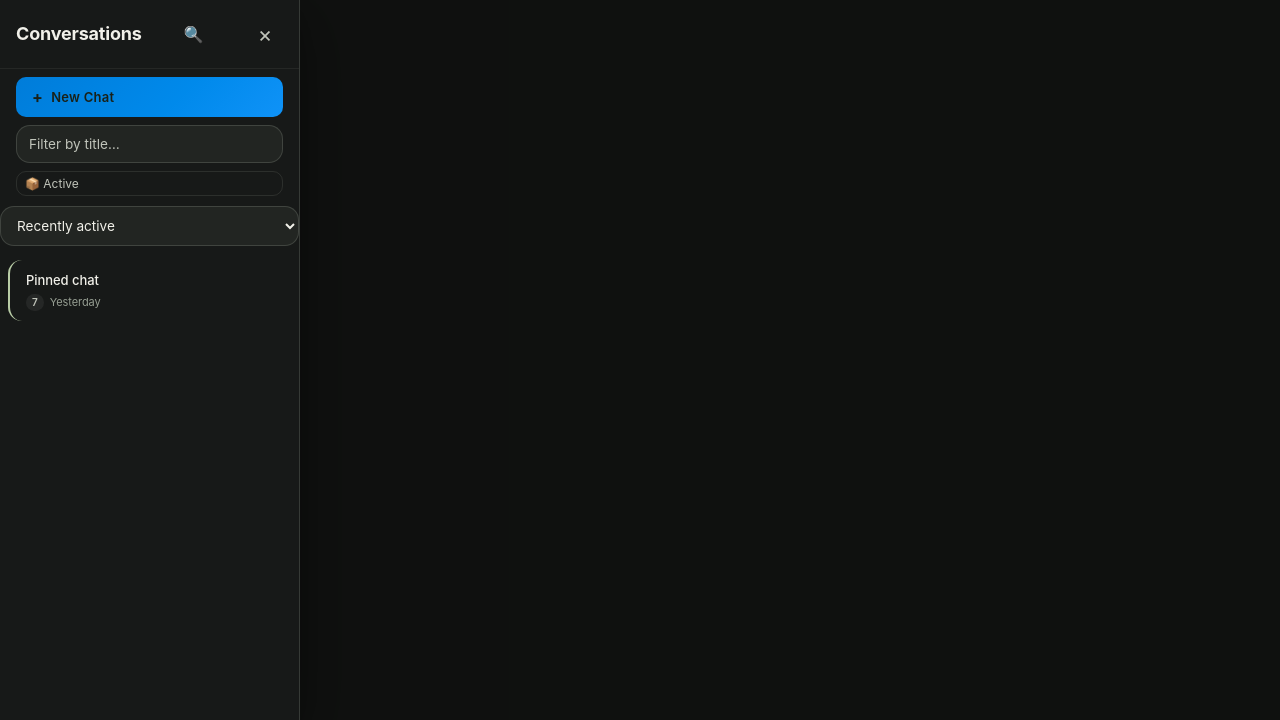
Test: ConversationSidebar — pinning › right-click on pinned conversation shows Unpin option
Right-click the element with class "conversation-item": (150, 291) [8, 260, 291, 321]
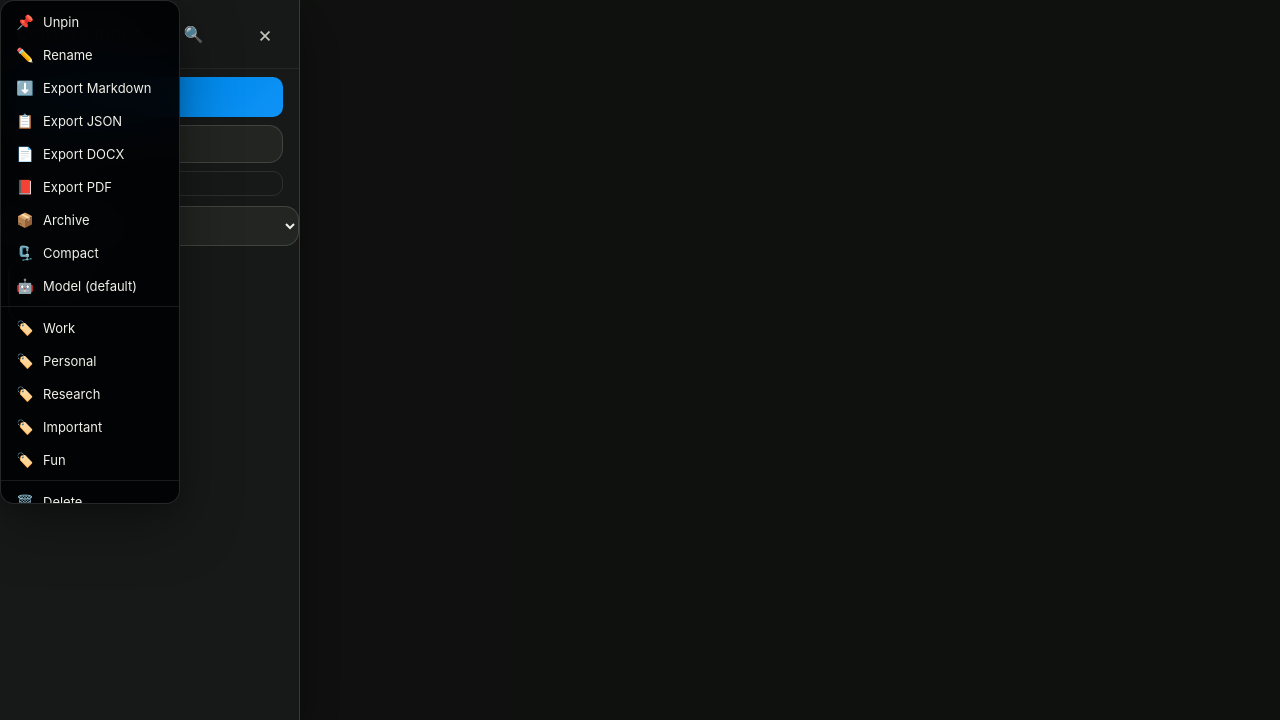
Expected: the menu item "📌 Unpin" is shown, [1, 5, 179, 38]
